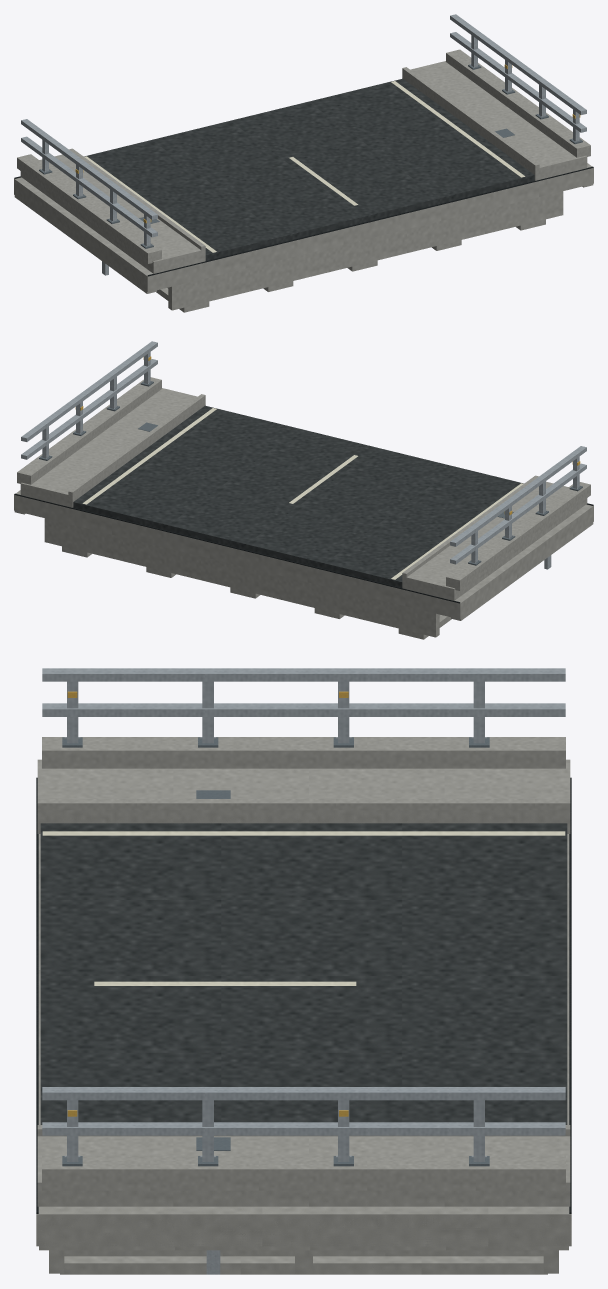
File: PZ_Bridge_Span_06m_Clean.glb
3 views of the same model, one above another, from view 1: azimuth 30°, elevation 25°; view 2: azimuth 150°, elevation 25°; view 3: azimuth 270°, elevation 25° (orthographic). The views are drawn at different scales.
Parts seen in each view (by area): view 1: PZ_Bridge_Span_06m_Clean_PAVEMENT_2LANE, PZ_Bridge_Span_06m_Clean_SLAB_11400mm, PZ_Bridge_Span_06m_Clean_TRANSVERSE_DIAPHRAGM_NEAR, PZ_Bridge_Span_06m_Clean_EAST_FOOTWAY, PZ_Bridge_Span_06m_Clean_WEST_FOOTWAY, PZ_Bridge_Span_06m_Clean_WEST_PARAPET_BASE, PZ_Bridge_Span_06m_Clean_EAST_PARAPET_BASE, PZ_Bridge_Span_06m_Clean_EAST_KERB, PZ_Bridge_Span_06m_Clean_WEST_FASCIA, PZ_Bridge_Span_06m_Clean_EAST_HANDRAIL_1220mm, PZ_Bridge_Span_06m_Clean_WEST_HANDRAIL_1220mm, PZ_Bridge_Span_06m_Clean_WEST_HANDRAIL_790mm (+6 smaller); view 2: PZ_Bridge_Span_06m_Clean_PAVEMENT_2LANE, PZ_Bridge_Span_06m_Clean_SLAB_11400mm, PZ_Bridge_Span_06m_Clean_TRANSVERSE_DIAPHRAGM_FAR, PZ_Bridge_Span_06m_Clean_EAST_FOOTWAY, PZ_Bridge_Span_06m_Clean_WEST_FOOTWAY, PZ_Bridge_Span_06m_Clean_WEST_PARAPET_BASE, PZ_Bridge_Span_06m_Clean_EAST_PARAPET_BASE, PZ_Bridge_Span_06m_Clean_EAST_KERB, PZ_Bridge_Span_06m_Clean_EAST_HANDRAIL_1220mm, PZ_Bridge_Span_06m_Clean_WEST_HANDRAIL_1220mm, PZ_Bridge_Span_06m_Clean_WEST_HANDRAIL_790mm, PZ_Bridge_Span_06m_Clean_EAST_HANDRAIL_790mm (+5 smaller); view 3: PZ_Bridge_Span_06m_Clean_PAVEMENT_2LANE, PZ_Bridge_Span_06m_Clean_WEST_FOOTWAY, PZ_Bridge_Span_06m_Clean_SLAB_11400mm, PZ_Bridge_Span_06m_Clean_EAST_FOOTWAY, PZ_Bridge_Span_06m_Clean_EAST_PARAPET_BASE, PZ_Bridge_Span_06m_Clean_WEST_PARAPET_BASE, PZ_Bridge_Span_06m_Clean_EAST_FASCIA, PZ_Bridge_Span_06m_Clean_GIRDER_5_BOTTOM_FLANGE, PZ_Bridge_Span_06m_Clean_WEST_HANDRAIL_1220mm, PZ_Bridge_Span_06m_Clean_EAST_HANDRAIL_1220mm, PZ_Bridge_Span_06m_Clean_WEST_HANDRAIL_790mm, PZ_Bridge_Span_06m_Clean_EAST_HANDRAIL_790mm (+9 smaller).
Part boxes in pixels (box(x1,y1,x2,y2)): PZ_Bridge_Span_06m_Clean_PAVEMENT_2LANE: box(84, 78, 534, 260); PZ_Bridge_Span_06m_Clean_SLAB_11400mm: box(14, 163, 593, 292); PZ_Bridge_Span_06m_Clean_TRANSVERSE_DIAPHRAGM_NEAR: box(168, 191, 563, 310); PZ_Bridge_Span_06m_Clean_EAST_FOOTWAY: box(402, 61, 587, 180); PZ_Bridge_Span_06m_Clean_WEST_FOOTWAY: box(20, 154, 205, 273); PZ_Bridge_Span_06m_Clean_WEST_PARAPET_BASE: box(17, 154, 161, 263); PZ_Bridge_Span_06m_Clean_EAST_PARAPET_BASE: box(446, 49, 590, 157); PZ_Bridge_Span_06m_Clean_EAST_KERB: box(402, 67, 539, 175); PZ_Bridge_Span_06m_Clean_WEST_FASCIA: box(14, 193, 156, 293); PZ_Bridge_Span_06m_Clean_EAST_HANDRAIL_1220mm: box(450, 14, 586, 114); PZ_Bridge_Span_06m_Clean_WEST_HANDRAIL_1220mm: box(21, 119, 157, 219); PZ_Bridge_Span_06m_Clean_WEST_HANDRAIL_790mm: box(21, 136, 157, 237); PZ_Bridge_Span_06m_Clean_PAVEMENT_2LANE: box(73, 405, 523, 587); PZ_Bridge_Span_06m_Clean_SLAB_11400mm: box(14, 490, 593, 619); PZ_Bridge_Span_06m_Clean_TRANSVERSE_DIAPHRAGM_FAR: box(44, 518, 439, 637); PZ_Bridge_Span_06m_Clean_EAST_FOOTWAY: box(20, 388, 205, 507); PZ_Bridge_Span_06m_Clean_WEST_FOOTWAY: box(402, 481, 587, 600); PZ_Bridge_Span_06m_Clean_WEST_PARAPET_BASE: box(446, 482, 590, 590); PZ_Bridge_Span_06m_Clean_EAST_PARAPET_BASE: box(17, 377, 161, 484); PZ_Bridge_Span_06m_Clean_EAST_KERB: box(68, 394, 205, 502); PZ_Bridge_Span_06m_Clean_EAST_HANDRAIL_1220mm: box(21, 341, 157, 441); PZ_Bridge_Span_06m_Clean_WEST_HANDRAIL_1220mm: box(450, 446, 586, 546); PZ_Bridge_Span_06m_Clean_WEST_HANDRAIL_790mm: box(450, 463, 586, 564); PZ_Bridge_Span_06m_Clean_EAST_HANDRAIL_790mm: box(21, 359, 157, 459); PZ_Bridge_Span_06m_Clean_PAVEMENT_2LANE: box(40, 823, 567, 1124); PZ_Bridge_Span_06m_Clean_WEST_FOOTWAY: box(37, 759, 570, 833); PZ_Bridge_Span_06m_Clean_SLAB_11400mm: box(36, 834, 571, 1246); PZ_Bridge_Span_06m_Clean_EAST_FOOTWAY: box(37, 1136, 570, 1206); PZ_Bridge_Span_06m_Clean_EAST_PARAPET_BASE: box(42, 1155, 565, 1190); PZ_Bridge_Span_06m_Clean_WEST_PARAPET_BASE: box(42, 737, 565, 768); PZ_Bridge_Span_06m_Clean_EAST_FASCIA: box(39, 1217, 568, 1250); PZ_Bridge_Span_06m_Clean_GIRDER_5_BOTTOM_FLANGE: box(60, 1256, 547, 1274); PZ_Bridge_Span_06m_Clean_WEST_HANDRAIL_1220mm: box(42, 668, 565, 681); PZ_Bridge_Span_06m_Clean_EAST_HANDRAIL_1220mm: box(42, 1087, 565, 1100); PZ_Bridge_Span_06m_Clean_WEST_HANDRAIL_790mm: box(42, 703, 565, 716); PZ_Bridge_Span_06m_Clean_EAST_HANDRAIL_790mm: box(42, 1122, 565, 1135).
Bounding box in the file's own units: 11.4 × 2.66 × 5.92.
Materials: 7 (7 with a texture image).
